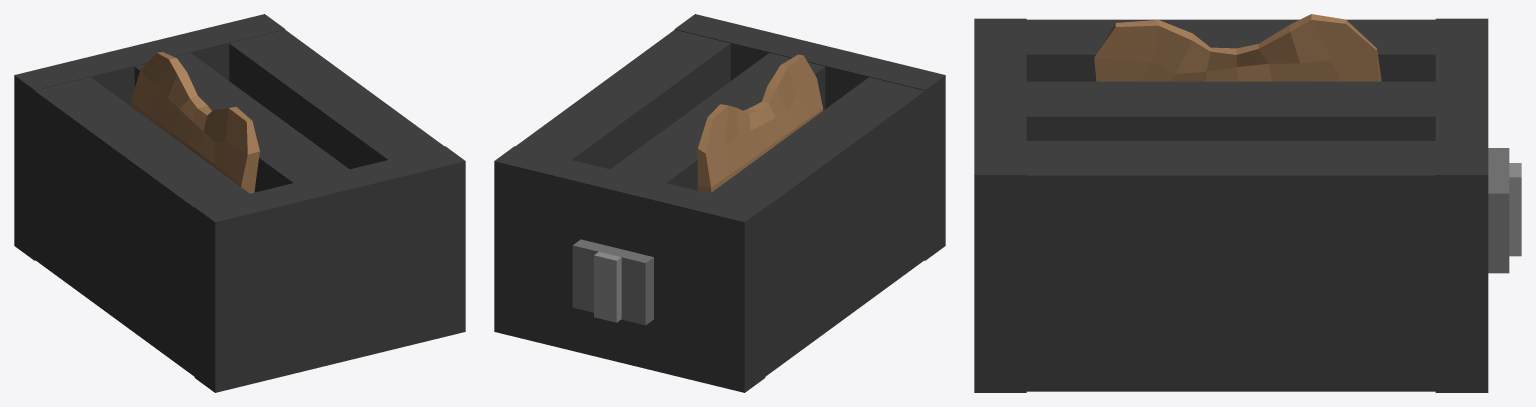
Rendered from toasterWtoast.fbx.
The picture shows the model from 3 angles, left to right: view 1: azimuth 30°, elevation 25°; view 2: azimuth 150°, elevation 25°; view 3: azimuth 270°, elevation 25°; orthographic projection. The views are drawn at different scales.
Parts seen in each view (by area): view 1: Cube.006, Cube.001; view 2: Cube.006, Cube.001; view 3: Cube.006, Cube.001.
Boxes of the visible parts, x1=… form: Cube.006: x1=14, y1=14, x2=465, y2=392; Cube.001: x1=130, y1=52, x2=259, y2=193; Cube.006: x1=494, y1=14, x2=945, y2=392; Cube.001: x1=697, y1=54, x2=822, y2=193; Cube.006: x1=974, y1=18, x2=1521, y2=392; Cube.001: x1=1094, y1=14, x2=1381, y2=81.
Bounding box in the file's own units: 38.51 × 31.72 × 56.98.
